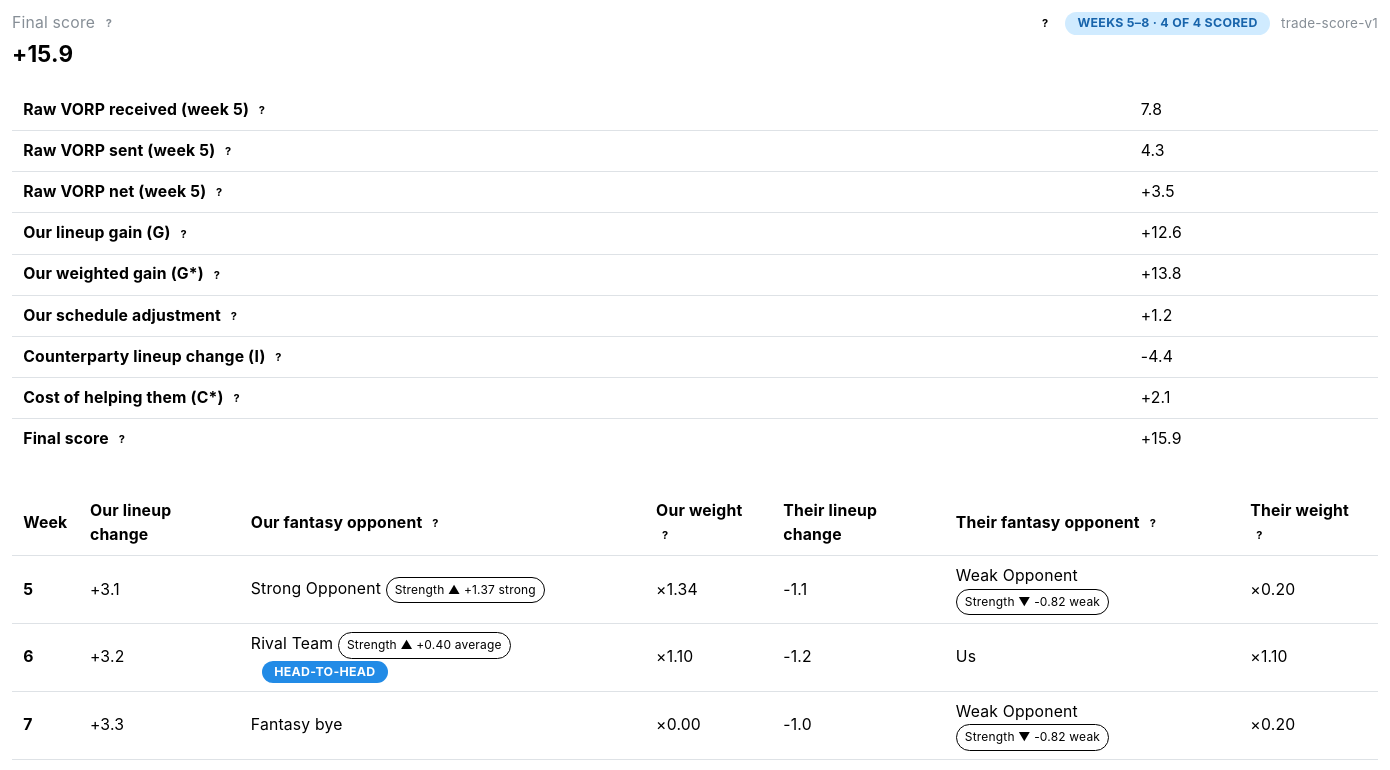
Scenario: uses returned weights in What is their weight?
This screenshot has width=1390, height=770.
Step 1. Focus the button named "What is their weight?" → (1259, 536), box [1250, 527, 1268, 545]
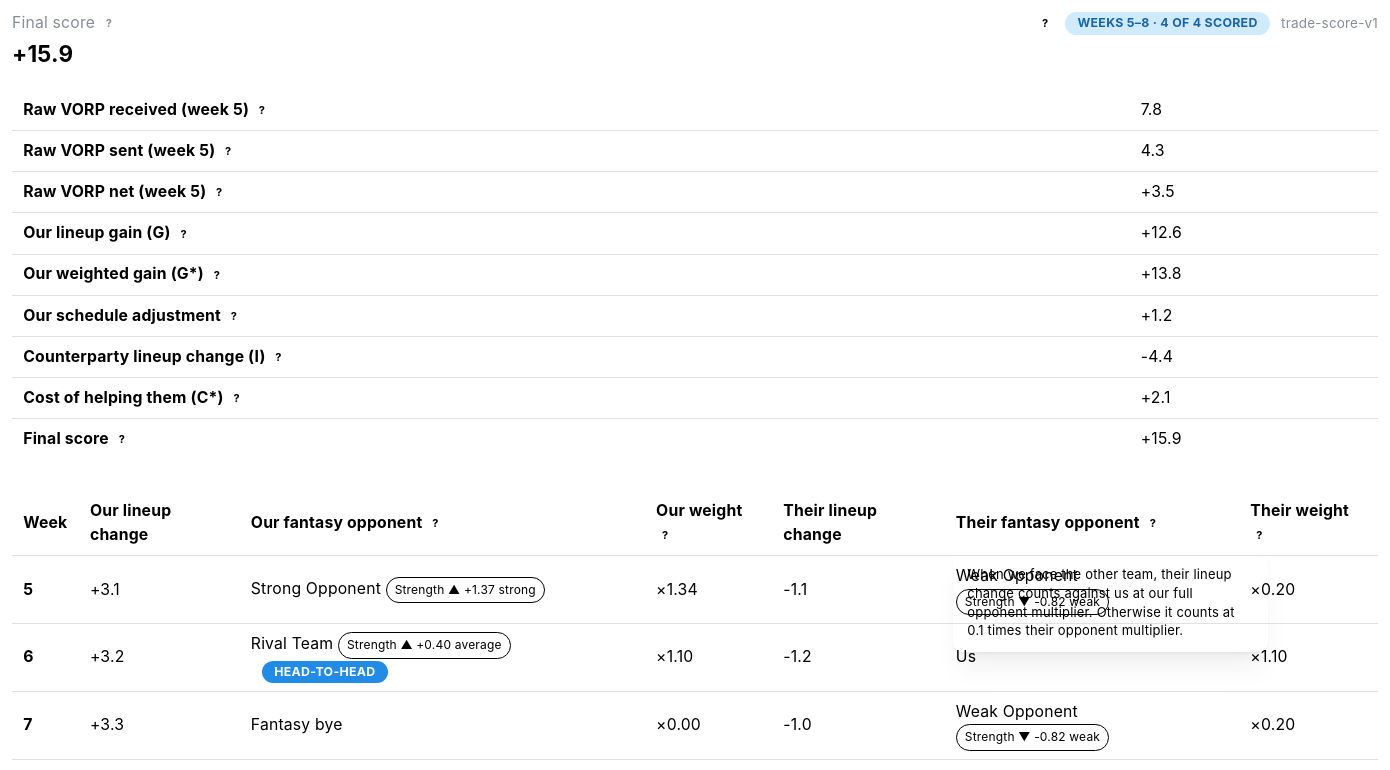
Check: the tooltip shows "0.1 times their opponent multiplier", box [967, 566, 1235, 638]
Check: the tooltip shows "full opponent multiplier", box [967, 566, 1235, 638]
